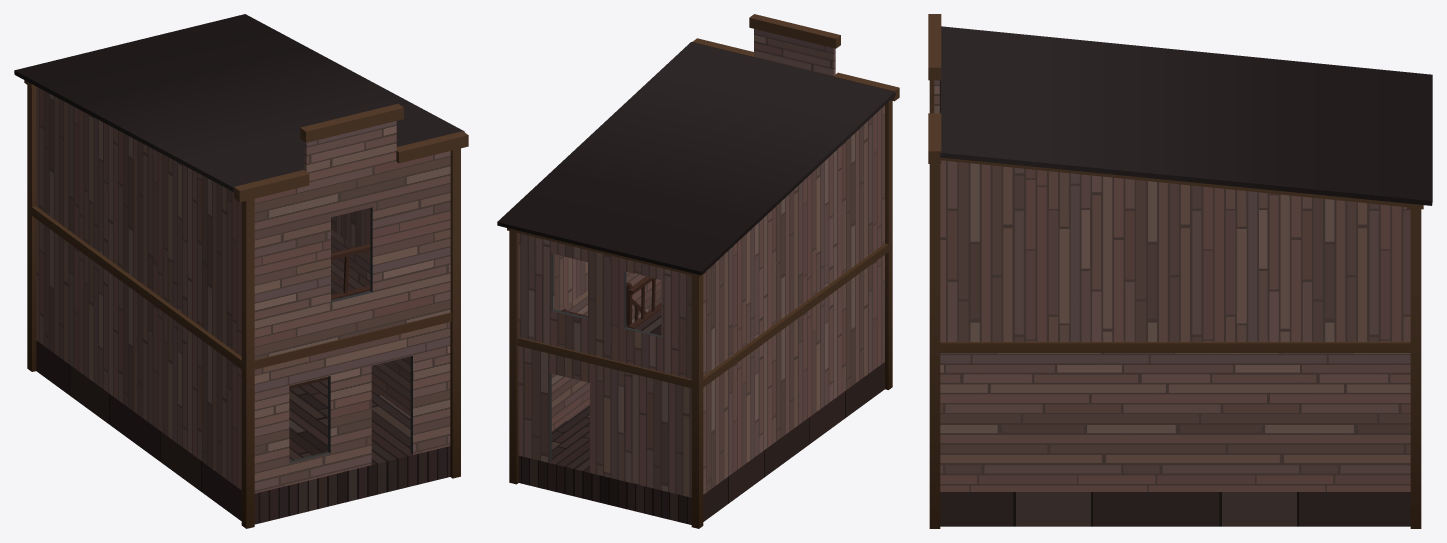
Rendered from House 5 M Brown.glb.
3 renders of one model, left to right at view 1: azimuth 30°, elevation 25°; view 2: azimuth 150°, elevation 25°; view 3: azimuth 270°, elevation 25°, orthographic. The views are drawn at different scales.
Visible parts, largest first — view 1: House 5 M Brown; view 2: House 5 M Brown; view 3: House 5 M Brown.
Part boxes in pixels (left/top/right/bottom): House 5 M Brown: left=14, top=14, right=468, bottom=528; House 5 M Brown: left=497, top=14, right=899, bottom=528; House 5 M Brown: left=928, top=14, right=1432, bottom=528.
Size of what is drawn, in the model's own units: 5.6 by 8.88 by 9.44.
Materials: 3 (3 with a texture image).
